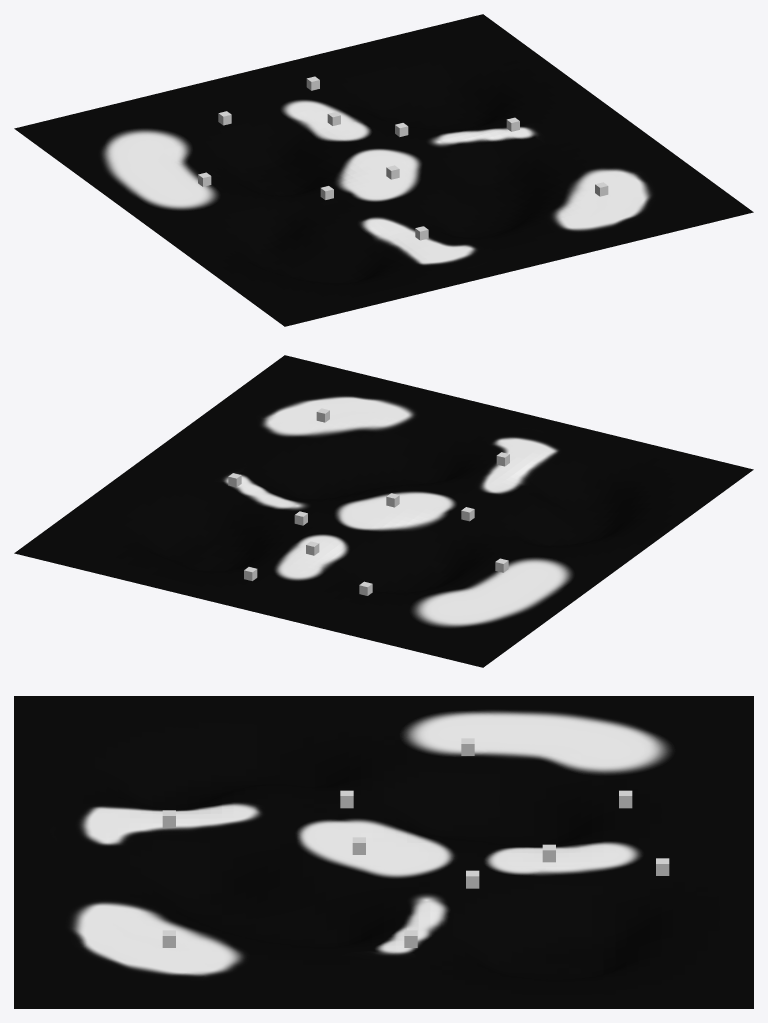
File: world_layout.glb
3 renders of one model, top to bottom at view 1: azimuth 30°, elevation 25°; view 2: azimuth 150°, elevation 25°; view 3: azimuth 270°, elevation 25°, orthographic. The views are drawn at different scales.
Visible parts, largest first — view 1: Plane; view 2: Plane; view 3: Plane.
Part boxes in pixels (left/top/right/bottom): Plane: left=14, top=14, right=753, bottom=326; Plane: left=14, top=355, right=753, bottom=667; Plane: left=14, top=696, right=753, bottom=1008.
Bounding box in the file's own units: 300 × 20.39 × 300.
Materials: 1 (1 with a texture image).
